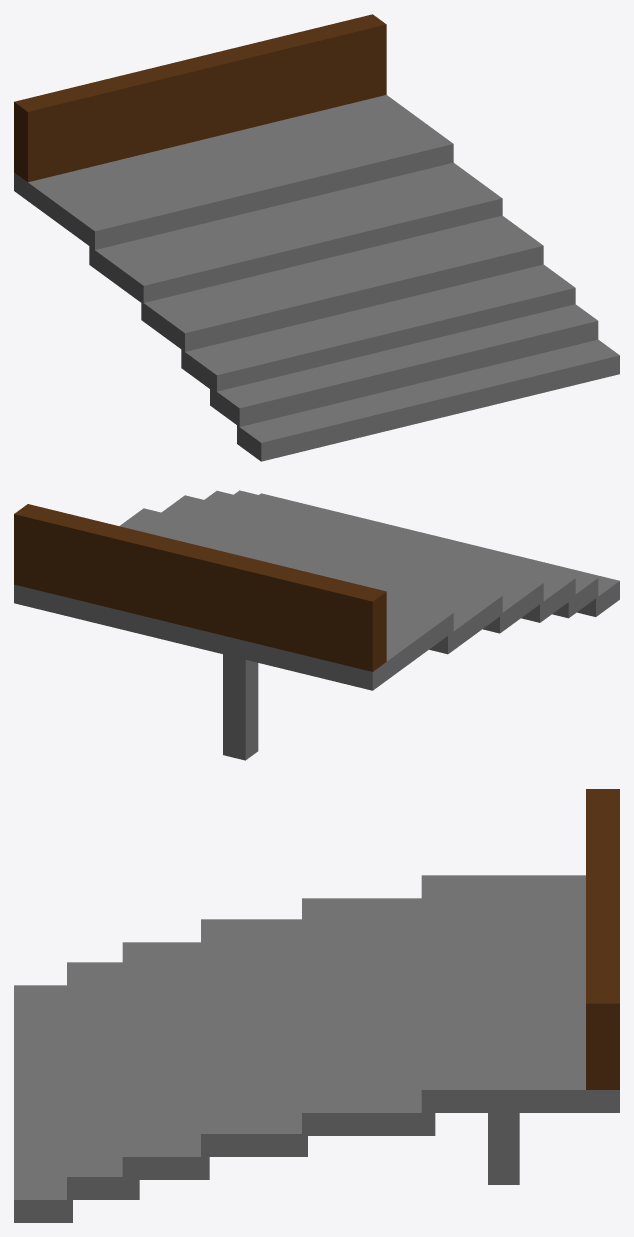
Rendered from Tribuene_Straight.fbx.
3 views of the same model, one above another, from view 1: azimuth 30°, elevation 25°; view 2: azimuth 150°, elevation 25°; view 3: azimuth 270°, elevation 25° (orthographic). The views are drawn at different scales.
Visible parts, largest first — view 1: Cube.002; view 2: Cube.002; view 3: Cube.002.
Part boxes in pixels (left/top/right/bottom): Cube.002: left=14, top=14, right=619, bottom=461; Cube.002: left=14, top=490, right=619, bottom=760; Cube.002: left=14, top=789, right=619, bottom=1222.
Bounding box in the file's own units: 1600 × 980 × 1910.
